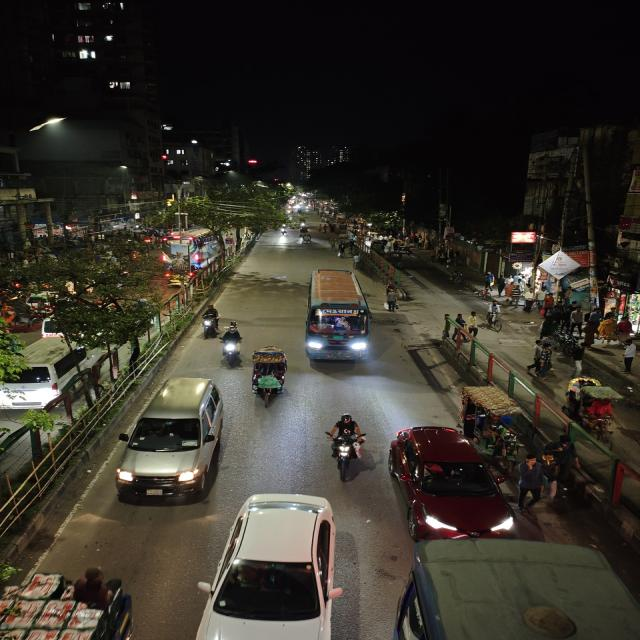bus: (396, 536, 639, 640), (300, 268, 375, 366), (161, 228, 222, 270)
car: (197, 492, 350, 640), (114, 373, 231, 505), (386, 421, 514, 539), (0, 342, 96, 412)
motorcycle: (322, 412, 368, 474), (218, 321, 244, 366), (198, 304, 223, 339)
pedestrian: (541, 436, 581, 505), (514, 455, 547, 509), (541, 460, 572, 504), (529, 339, 560, 375), (566, 340, 592, 376), (620, 338, 639, 374), (598, 315, 617, 347), (565, 303, 585, 333), (485, 298, 502, 328), (383, 284, 401, 312), (468, 310, 480, 335), (350, 251, 364, 270), (455, 312, 468, 332), (336, 240, 348, 258)
rickshaw: (452, 380, 537, 460), (562, 377, 628, 440), (248, 344, 293, 406), (301, 233, 313, 248)
